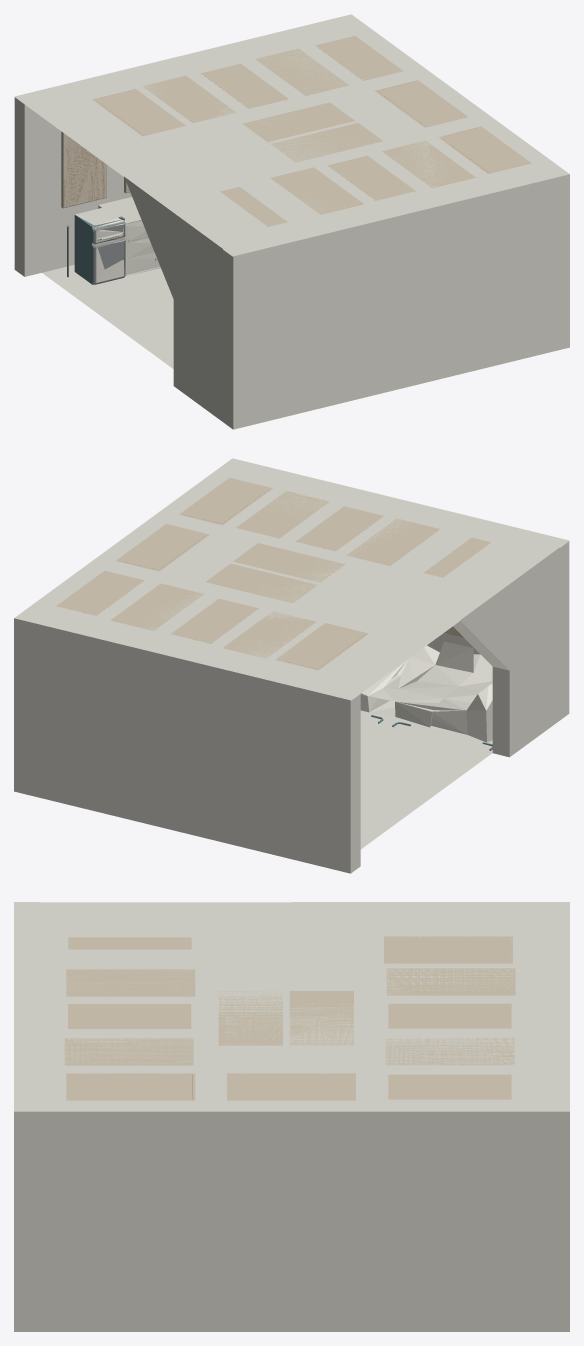
Rendered from city-preview.glb.
3 renders of one model, top to bottom at view 1: azimuth 30°, elevation 25°; view 2: azimuth 150°, elevation 25°; view 3: azimuth 270°, elevation 25°, orthographic. The views are drawn at different scales.
Bounding box in the file's own units: 4.69 × 2.3 × 5.26.
